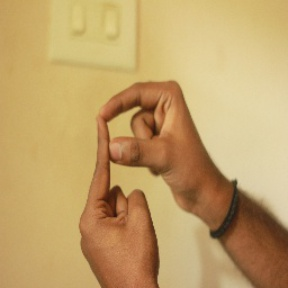P: (76, 73, 193, 250)
